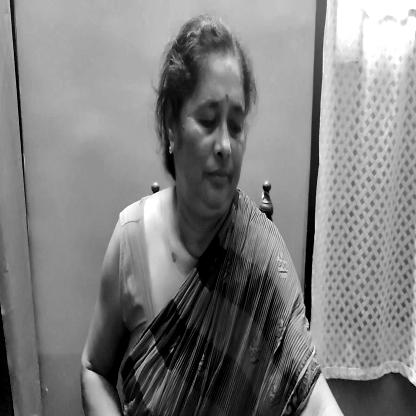Distracted: (160, 24, 256, 228)
